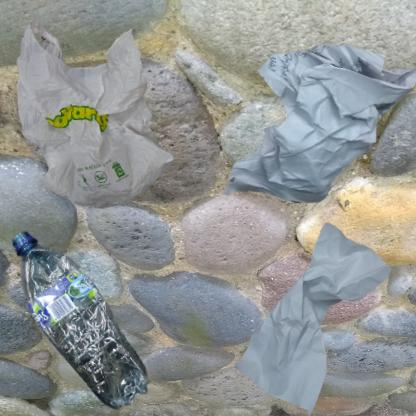bolsa: (10, 10, 181, 219)
botella: (10, 213, 166, 416)
papel: (213, 10, 416, 269), (213, 213, 416, 416)
